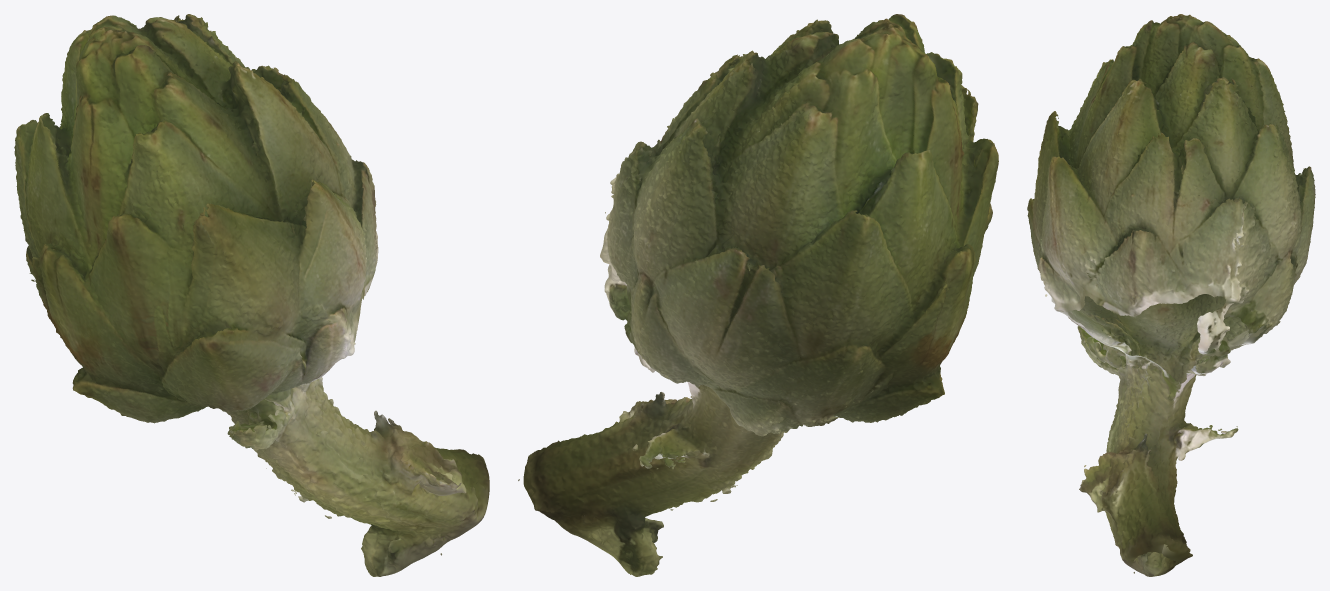
The model's file is Artichoke.glb.
The picture shows the model from 3 angles, left to right: view 1: azimuth 30°, elevation 25°; view 2: azimuth 150°, elevation 25°; view 3: azimuth 270°, elevation 25°; orthographic projection. The views are drawn at different scales.
Visible parts, largest first — view 1: Object_2, Object_3, Object_4, Object_6, Object_5; view 2: Object_4, Object_2, Object_3, Object_5, Object_6; view 3: Object_5, Object_6, Object_4, Object_3, Object_2.
Part boxes in pixels (box(x1,y1,x2,y2)): Object_2: box(14, 121, 271, 450); Object_3: box(14, 16, 451, 576); Object_4: box(33, 21, 489, 573); Object_6: box(31, 14, 486, 555); Object_5: box(106, 14, 488, 507); Object_4: box(523, 29, 977, 572); Object_2: box(750, 70, 998, 436); Object_3: box(621, 38, 998, 576); Object_5: box(523, 19, 859, 492); Object_6: box(518, 14, 944, 541); Object_5: box(1046, 21, 1308, 558); Object_6: box(1036, 14, 1315, 573); Object_4: box(1032, 21, 1315, 576); Object_3: box(1027, 21, 1259, 574); Object_2: box(1031, 198, 1248, 372).
Bounding box in the file's own units: 3.85 × 5.12 × 2.89.
1 material, 1 textured.
